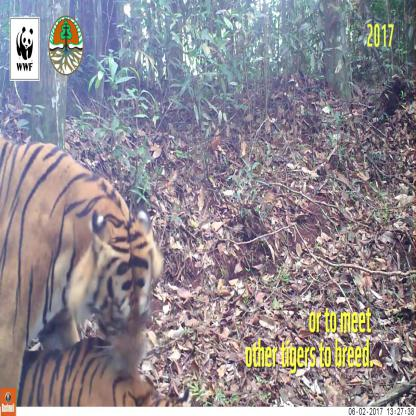Tiger: (0, 130, 180, 354), (24, 320, 193, 395)
